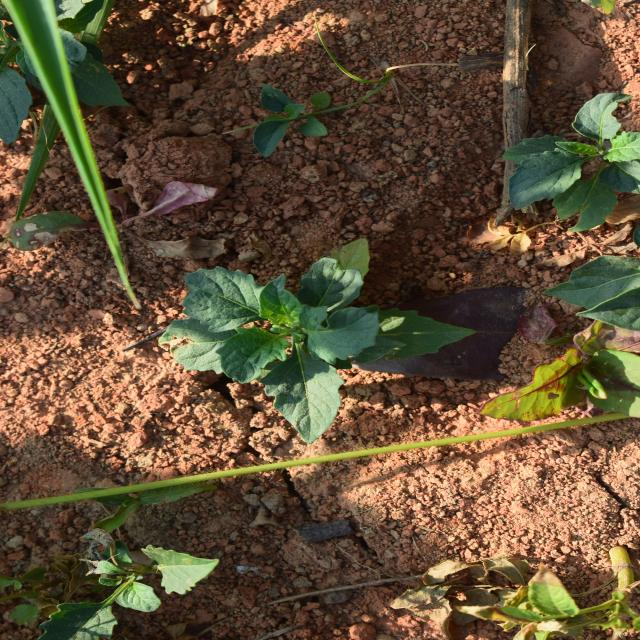Black_nightshade: (188, 174, 412, 452), (413, 503, 544, 638)
